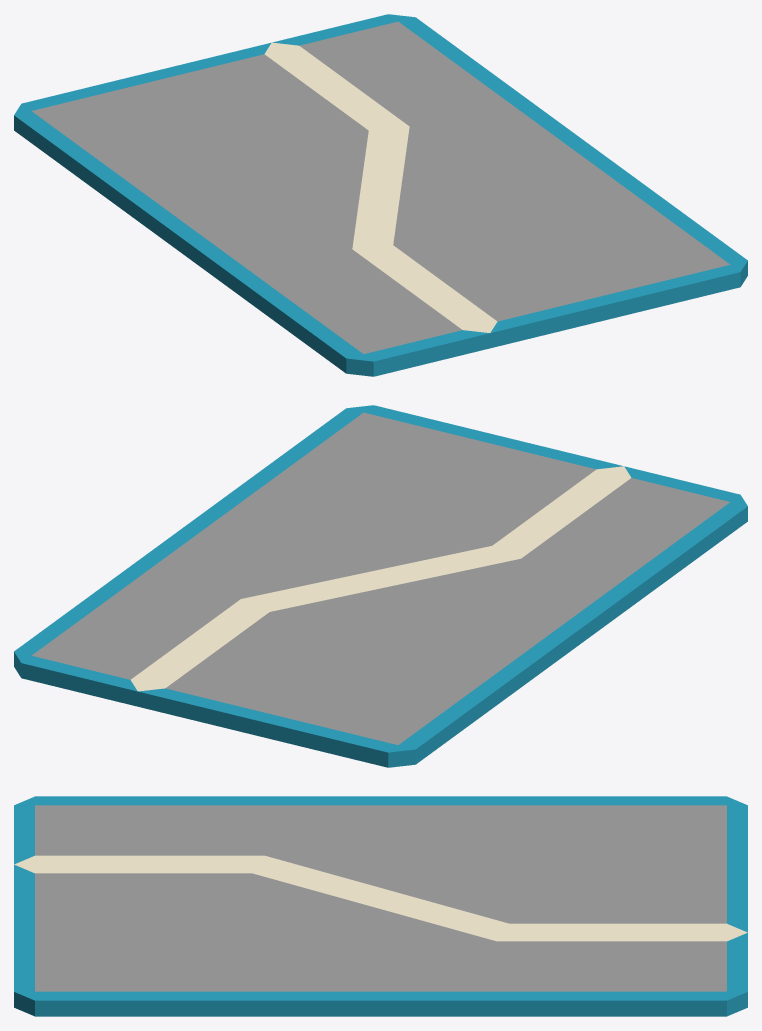
Rendered from Keycard.fbx.
3 renders of one model, top to bottom at view 1: azimuth 30°, elevation 25°; view 2: azimuth 150°, elevation 25°; view 3: azimuth 270°, elevation 25°, orthographic. The views are drawn at different scales.
Visible parts, largest first — view 1: Keycard; view 2: Keycard; view 3: Keycard.
Part boxes in pixels (x1,y1,x2,y2): Keycard: (14,14,747,376); Keycard: (14,405,747,767); Keycard: (14,796,747,1016).
Size of the model in its own units: 4.61 by 0.1668 by 7.
